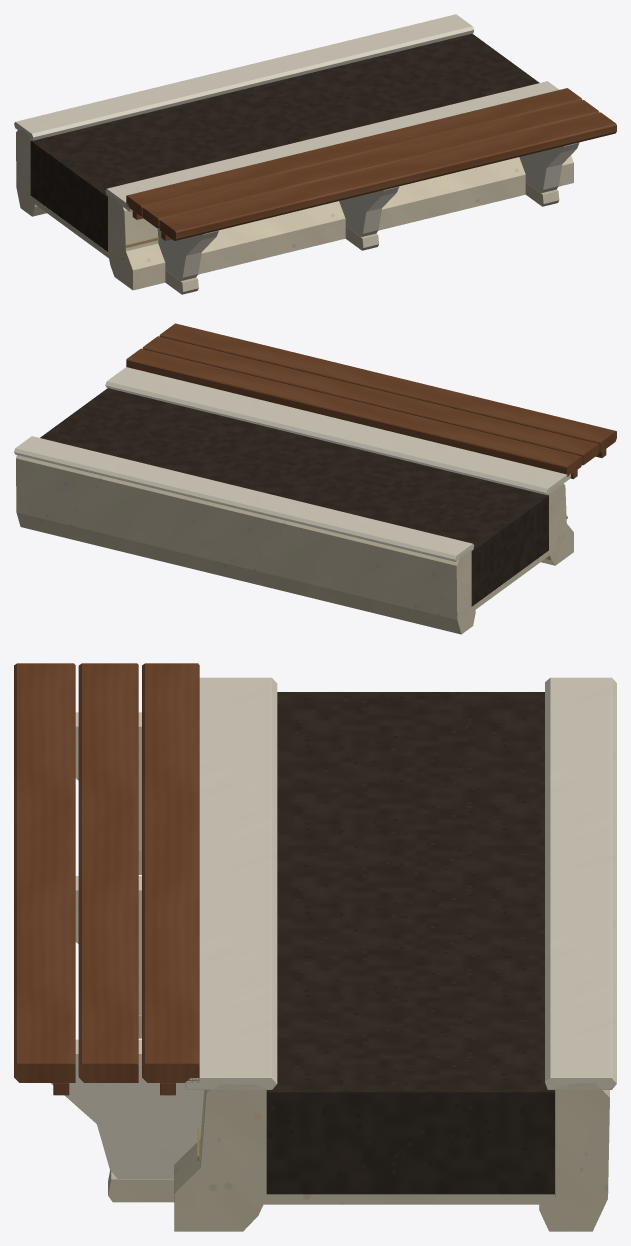
Rendered from AST-BOT-004.glb.
3 renders of one model, top to bottom at view 1: azimuth 30°, elevation 25°; view 2: azimuth 150°, elevation 25°; view 3: azimuth 270°, elevation 25°, orthographic. The views are drawn at different scales.
Parts seen in each view (by area): view 1: ASTRAEA_planted_seat_botanical_soil, ASTRAEA_planted_seat_warm_walnut, ASTRAEA_planted_seat_ivory_enamel, ASTRAEA_planted_seat_warm_stone; view 2: ASTRAEA_planted_seat_warm_stone, ASTRAEA_planted_seat_botanical_soil, ASTRAEA_planted_seat_warm_walnut, ASTRAEA_planted_seat_ivory_enamel; view 3: ASTRAEA_planted_seat_botanical_soil, ASTRAEA_planted_seat_warm_walnut, ASTRAEA_planted_seat_ivory_enamel, ASTRAEA_planted_seat_warm_stone.
Boxes of the visible parts, box(x1,y1,x2,y2) form: ASTRAEA_planted_seat_botanical_soil: box(30, 33, 539, 251); ASTRAEA_planted_seat_warm_walnut: box(126, 88, 616, 240); ASTRAEA_planted_seat_ivory_enamel: box(14, 14, 579, 281); ASTRAEA_planted_seat_warm_stone: box(16, 129, 573, 294); ASTRAEA_planted_seat_warm_stone: box(16, 455, 573, 634); ASTRAEA_planted_seat_botanical_soil: box(40, 388, 548, 606); ASTRAEA_planted_seat_warm_walnut: box(126, 323, 616, 479); ASTRAEA_planted_seat_ivory_enamel: box(14, 367, 570, 561); ASTRAEA_planted_seat_botanical_soil: box(266, 692, 554, 1194); ASTRAEA_planted_seat_warm_walnut: box(14, 663, 199, 1095); ASTRAEA_planted_seat_ivory_enamel: box(51, 677, 616, 1178); ASTRAEA_planted_seat_warm_stone: box(108, 852, 609, 1231).
Size of the model in its own units: 2.4 by 0.47 by 1.53.
Materials: 5 (5 with a texture image).
